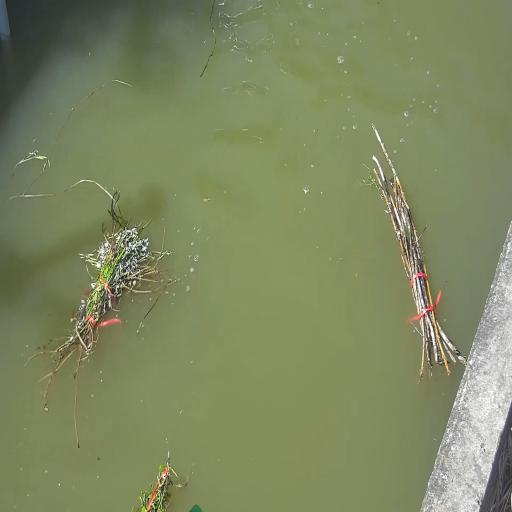plastic: (184, 504, 198, 512)
twig: (365, 131, 465, 378), (63, 215, 143, 378), (132, 451, 173, 512)
